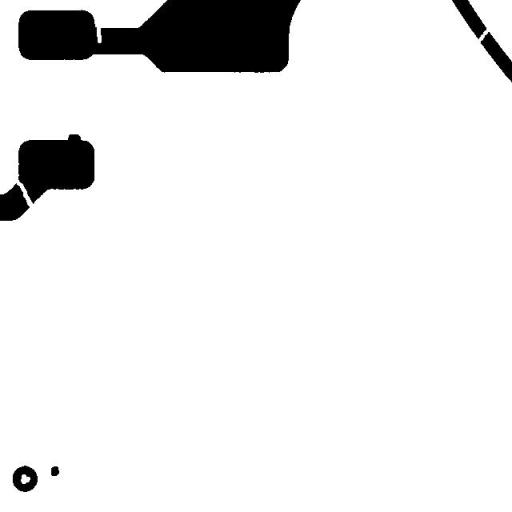copper: (44, 458, 66, 484)
mousebite: (88, 16, 109, 50)
open: (462, 13, 506, 62), (6, 172, 40, 214)
pin-hole: (12, 466, 38, 492)
spur: (60, 126, 88, 150)
